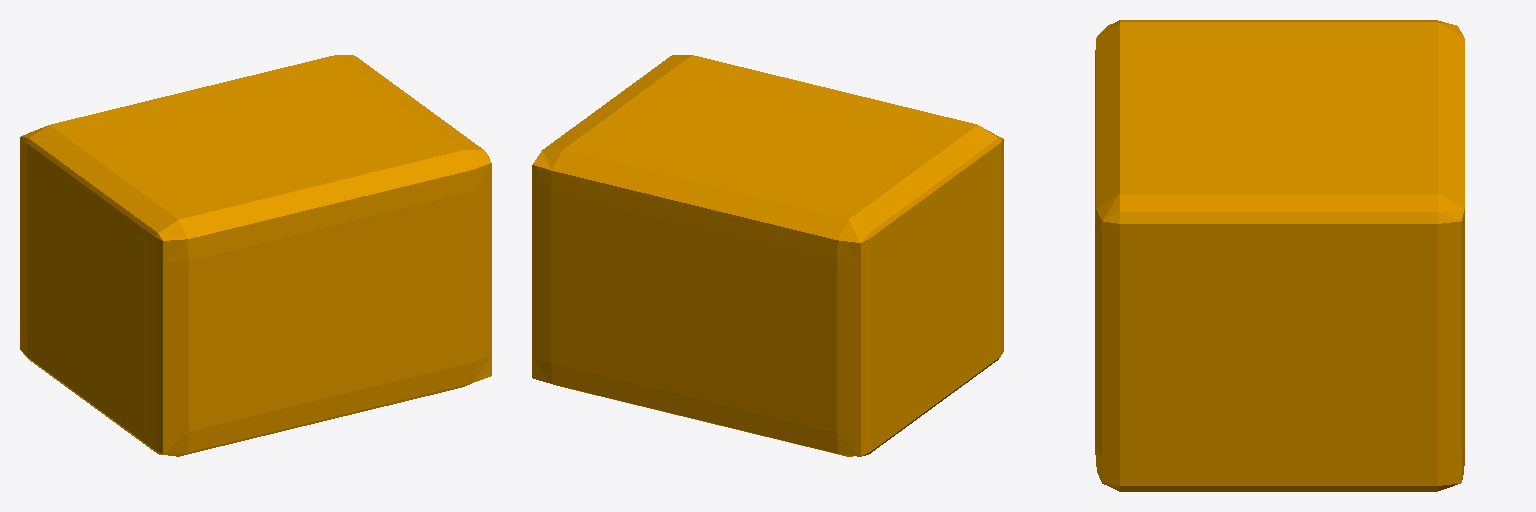
URDF robot description (cylinder_box_38):
<?xml version="1.0" encoding="utf-8"?>  <robot name="cylinder_box_38">   <link name="cylinder_box_38">     <visual>       <geometry>         <mesh filename="../meshes/box/box_38.stl" scale="1 1 1"/>       </geometry>     </visual>     <collision>       <geometry>         <mesh filename="../meshes/box/box_38.stl" scale="1 1 1"/>       </geometry>     </collision>     <inertial>        <origin         xyz="0 0 0"         rpy="0 0 0" />       <mass value="0.2855758262908144"/>       <origin rpy="0 0 0" xyz="0 0 0"/>       <inertia ixx="0.0001674464173844854" ixy="4.222256157404452e-08" ixz="1.8745210109772117e-09" iyy="0.00022787568363445777" iyz="1.8183301667337437e-08" izz="0.00025170828398177463"/>     </inertial>   </link>  </robot>

--- What the picture shows (computed from the rendered views, not written in the file) ---
3 views of the same robot in one strip: view 1: azimuth 30°, elevation 25°; view 2: azimuth 150°, elevation 25°; view 3: azimuth 270°, elevation 25° (orthographic).
Robot: cylinder_box_38 — 1 links, 0 joints (none); root link cylinder_box_38; default pose: every joint at zero.
Visible links, largest first — view 1: cylinder_box_38; view 2: cylinder_box_38; view 3: cylinder_box_38.
Boxes of the visible links, x1,y1,x2,y2 form: cylinder_box_38: (20,55,491,456); cylinder_box_38: (532,55,1003,456); cylinder_box_38: (1095,20,1464,491).
Bounding box of the posed robot: 0.0816 × 0.0641 × 0.0555 m (x, y, z).
Meshes: 1 distinct files referenced, 1 mesh visuals loaded (1 binary STL).